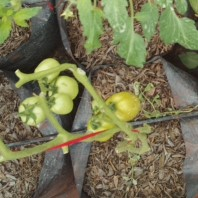tomato: (101, 89, 146, 124), (15, 93, 48, 127), (87, 112, 119, 146), (28, 56, 68, 83), (48, 76, 87, 101), (49, 92, 75, 115)
